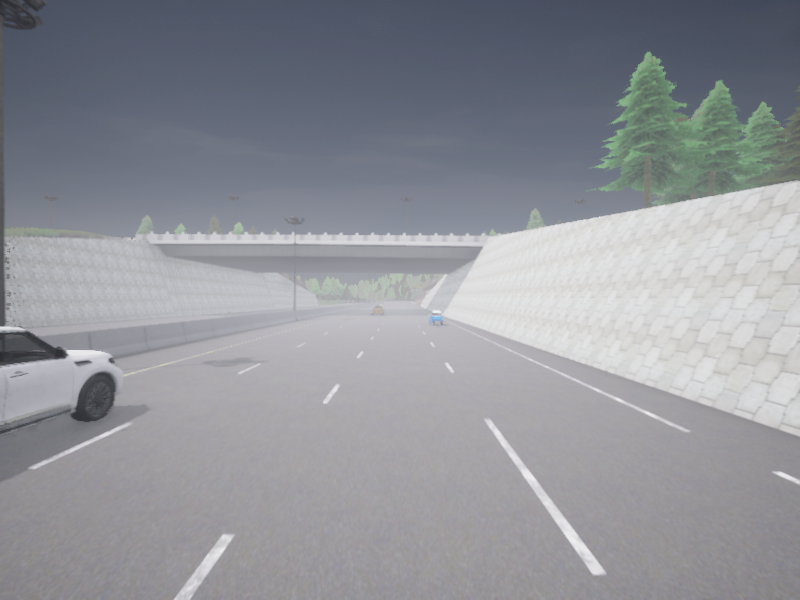vehicle: (0, 326, 122, 435), (428, 311, 442, 324), (372, 305, 384, 314)
